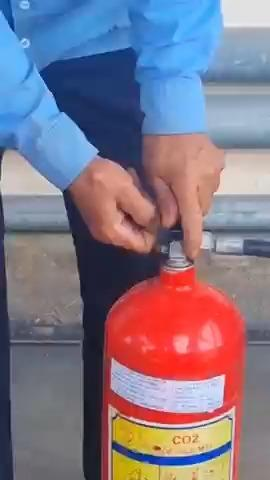FireExtinguisher: (95, 233, 250, 480)
